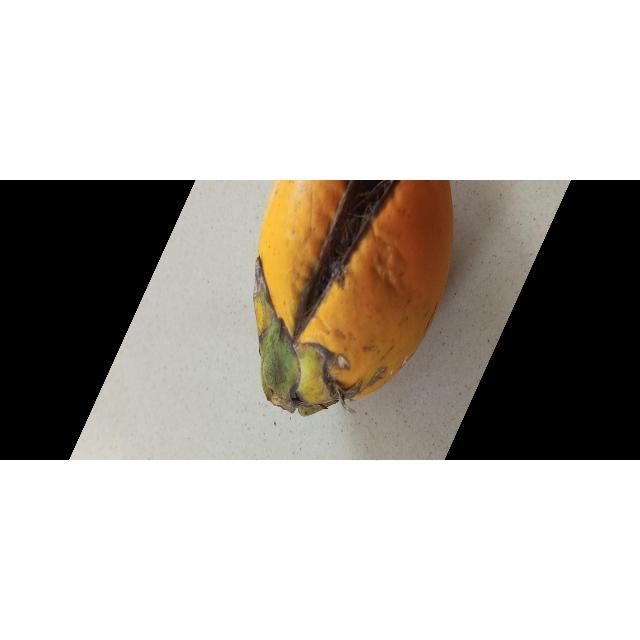damaged: (255, 180, 452, 416)
